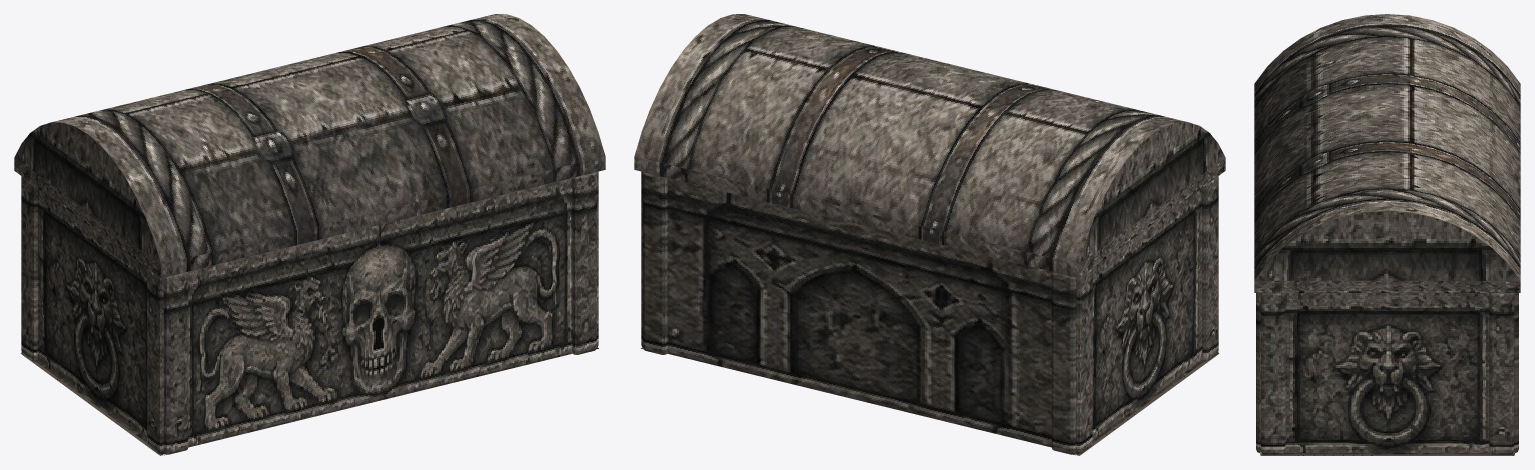
Rendered from chest_domed_stone.glb.
3 renders of one model, left to right at view 1: azimuth 30°, elevation 25°; view 2: azimuth 150°, elevation 25°; view 3: azimuth 270°, elevation 25°, orthographic. The views are drawn at different scales.
Parts seen in each view (by area): view 1: body, lid; view 2: body, lid; view 3: lid, body.
Part boxes in pixels (x1,y1,x2,y2): body: (20,171,598,455); lid: (14,14,605,278); body: (641,171,1219,455); lid: (634,14,1225,278); lid: (1254,14,1520,292); body: (1256,293,1518,455).
Size of the model in its own units: 1.03 by 0.6 by 0.588.
Materials: 1 (1 with a texture image).
